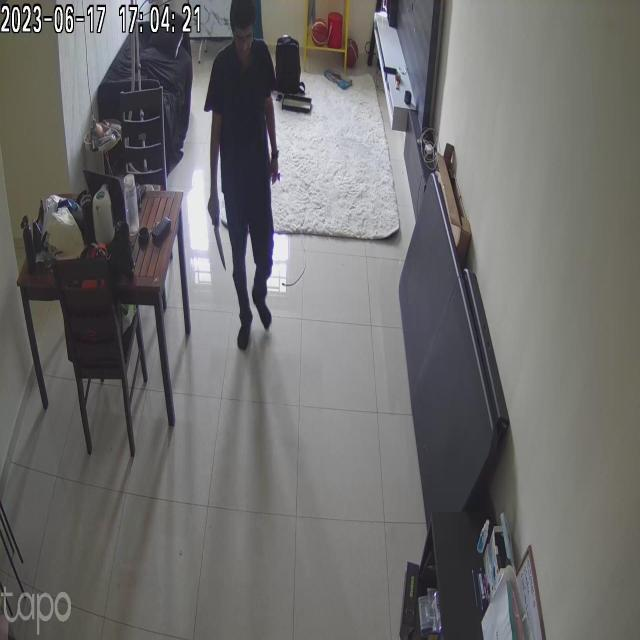Knife: (209, 222, 234, 282)
